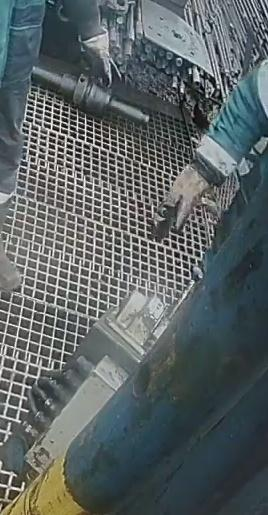gloves: (149, 158, 216, 242), (77, 27, 121, 88)
